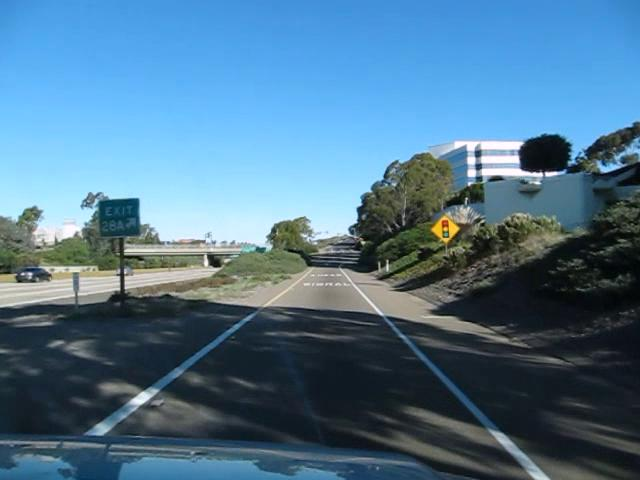signalAhead: (429, 213, 460, 244)
